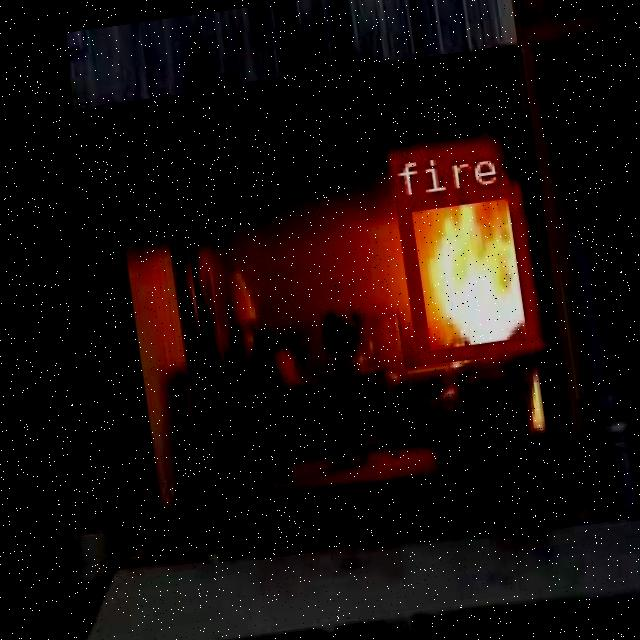fire: (394, 180, 539, 362)
